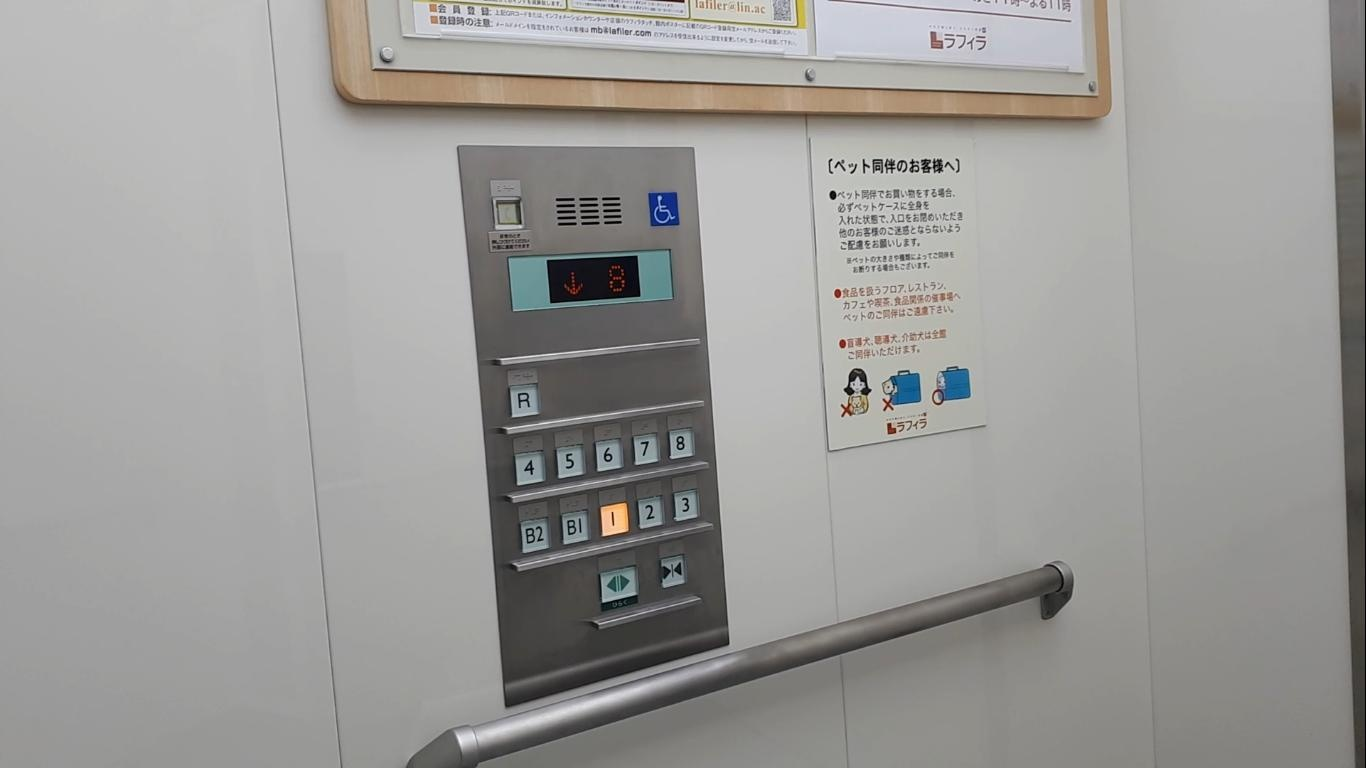1: (598, 500, 629, 538)
2: (636, 494, 663, 530)
3: (672, 487, 699, 523)
4: (512, 449, 546, 487)
5: (554, 443, 586, 480)
6: (593, 437, 625, 474)
7: (630, 431, 660, 468)
8: (666, 427, 696, 460)
B1: (558, 507, 590, 547)
B2: (518, 515, 550, 554)
CH: (645, 192, 679, 227)
R: (506, 382, 540, 419)
call: (491, 195, 526, 229)
close: (656, 551, 687, 591)
led: (544, 250, 642, 305)
open: (598, 565, 640, 610)
